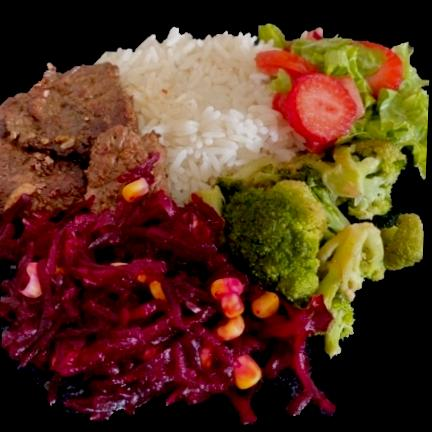beet: (0, 192, 335, 423)
broccoli: (202, 139, 423, 355)
meat: (0, 62, 163, 219)
rice: (97, 28, 304, 203)
salad: (292, 37, 428, 179)
tomato: (256, 50, 364, 151)
